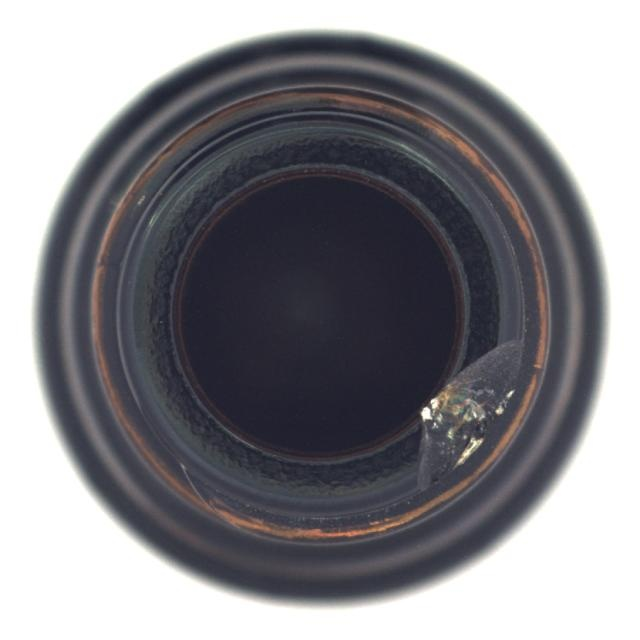bad-broken_small: (33, 29, 611, 611)
